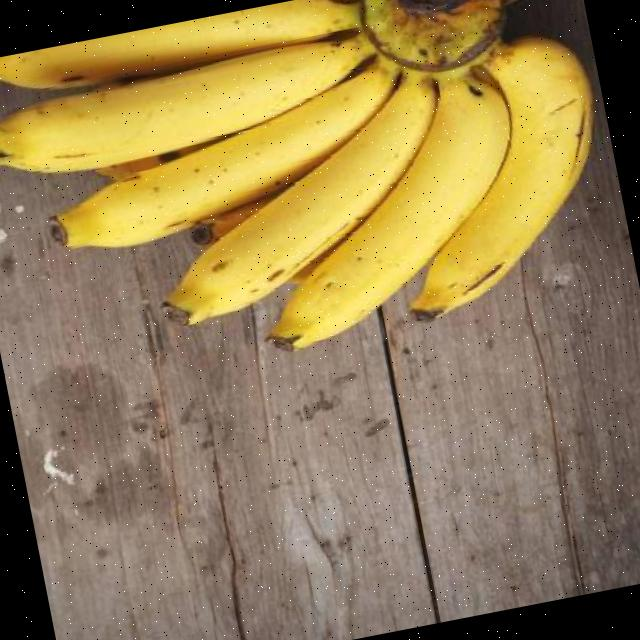banana: (272, 32, 597, 350), (166, 80, 439, 326), (50, 64, 396, 250), (0, 36, 364, 173)
